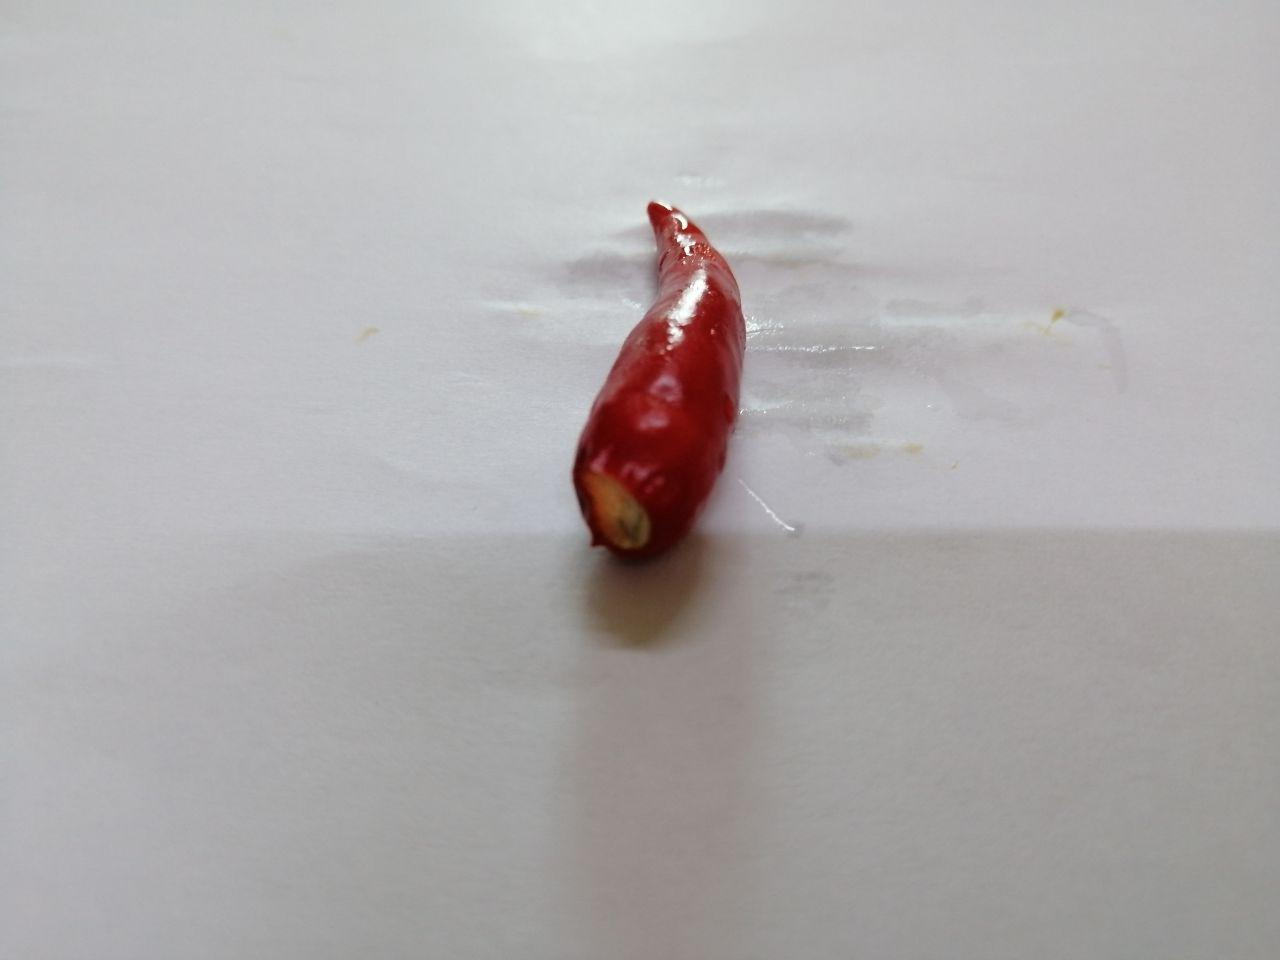lada merah: (560, 189, 772, 592)
